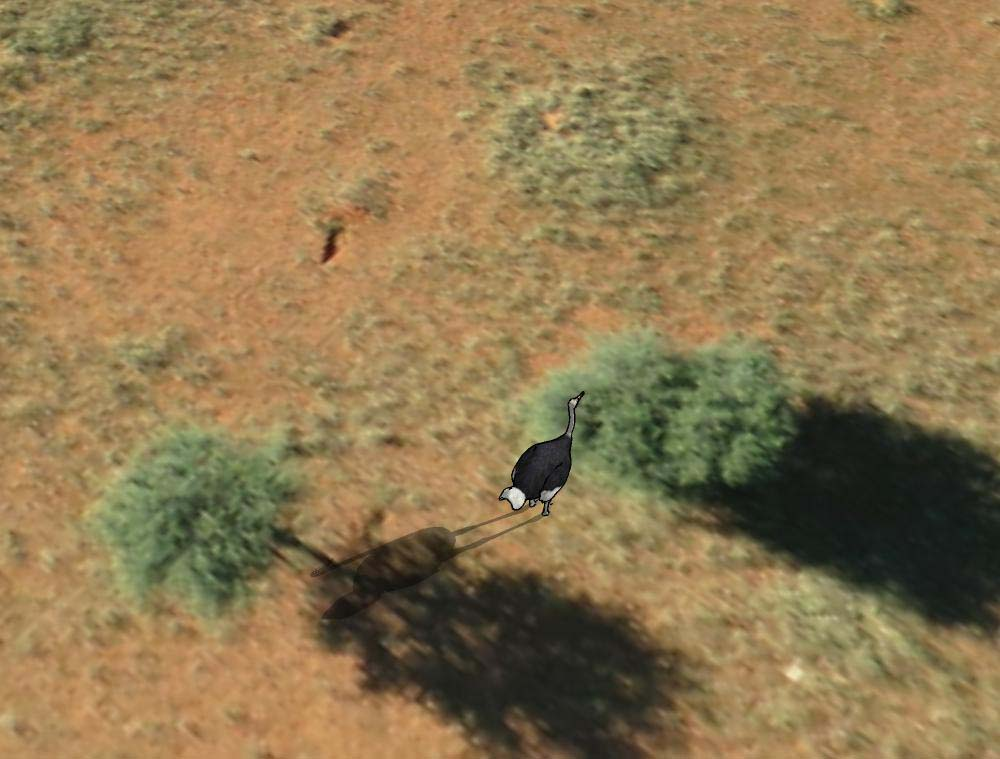ostrich: (498, 389, 586, 517)
